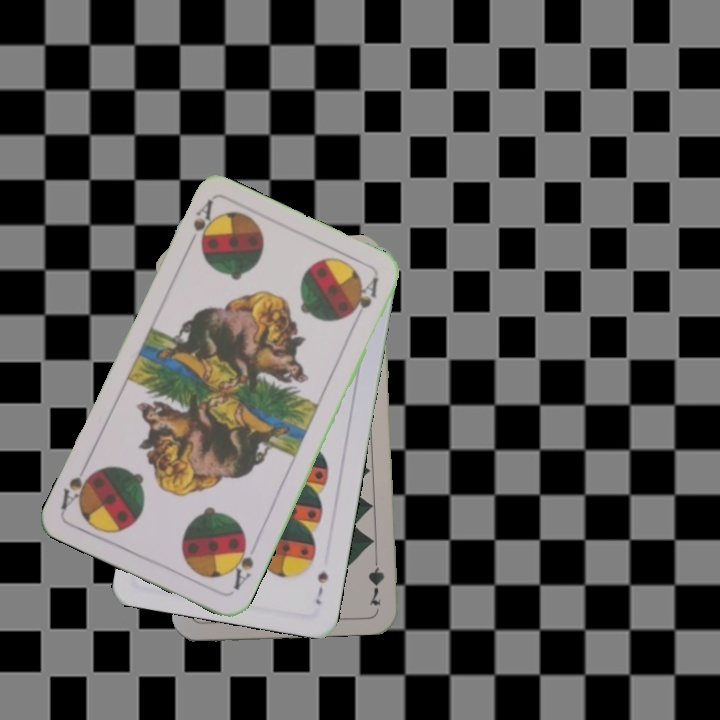G7: (364, 549, 387, 608)
S7: (311, 567, 331, 607)
SA: (183, 196, 217, 252), (226, 534, 256, 593)
